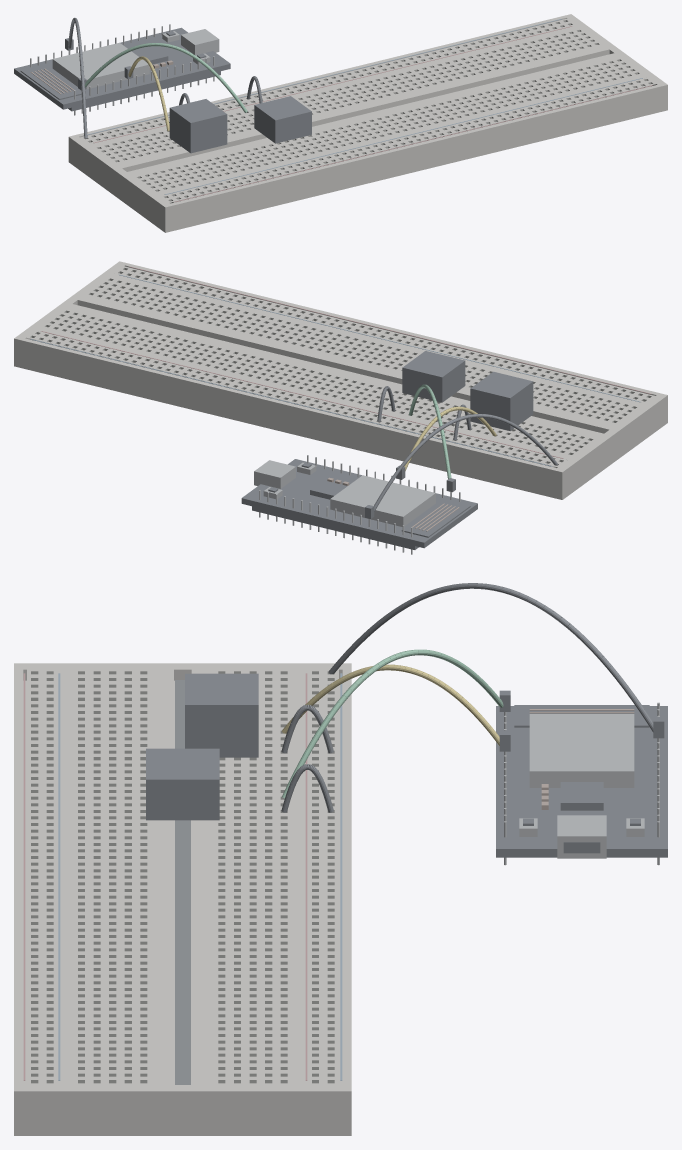
The picture shows the model from 3 angles, top to bottom: view 1: azimuth 30°, elevation 25°; view 2: azimuth 150°, elevation 25°; view 3: azimuth 270°, elevation 25°; orthographic projection. The views are drawn at different scales.
Parts seen in each view (by area): view 1: breadboard__mesh, uno__mesh, piezo__mesh, button__mesh, button_signal__mesh, ground_supply__mesh, piezo_signal__mesh; view 2: breadboard__mesh, uno__mesh, piezo__mesh, button__mesh, ground_supply__mesh, button_signal__mesh, piezo_signal__mesh; view 3: breadboard__mesh, uno__mesh, piezo__mesh, button__mesh, ground_supply__mesh, button_signal__mesh, piezo_signal__mesh.
Boxes of the visible parts, bbox=[...] form: breadboard__mesh: bbox=[68, 14, 667, 232]; uno__mesh: bbox=[14, 24, 230, 115]; piezo__mesh: bbox=[169, 99, 227, 153]; button__mesh: bbox=[254, 96, 311, 143]; button_signal__mesh: bbox=[78, 43, 247, 112]; ground_supply__mesh: bbox=[65, 17, 87, 138]; piezo_signal__mesh: bbox=[124, 56, 169, 131]; breadboard__mesh: bbox=[14, 261, 667, 499]; uno__mesh: bbox=[241, 455, 477, 554]; piezo__mesh: bbox=[470, 371, 533, 430]; button__mesh: bbox=[402, 351, 465, 402]; ground_supply__mesh: bbox=[365, 414, 557, 518]; button_signal__mesh: bbox=[409, 384, 455, 492]; piezo_signal__mesh: bbox=[396, 406, 496, 479]; breadboard__mesh: bbox=[14, 663, 351, 1135]; uno__mesh: bbox=[496, 702, 667, 865]; piezo__mesh: bbox=[185, 673, 258, 757]; button__mesh: bbox=[146, 748, 219, 820]; ground_supply__mesh: bbox=[328, 583, 664, 738]; button_signal__mesh: bbox=[282, 649, 510, 798]; piezo_signal__mesh: bbox=[282, 664, 510, 751].
Bounding box in the file's own units: 0.165 × 0.0297 × 0.1065.
